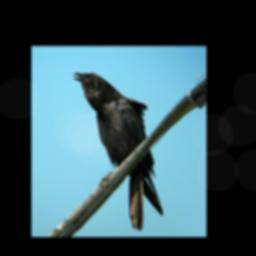Crow: (73, 70, 164, 231)
